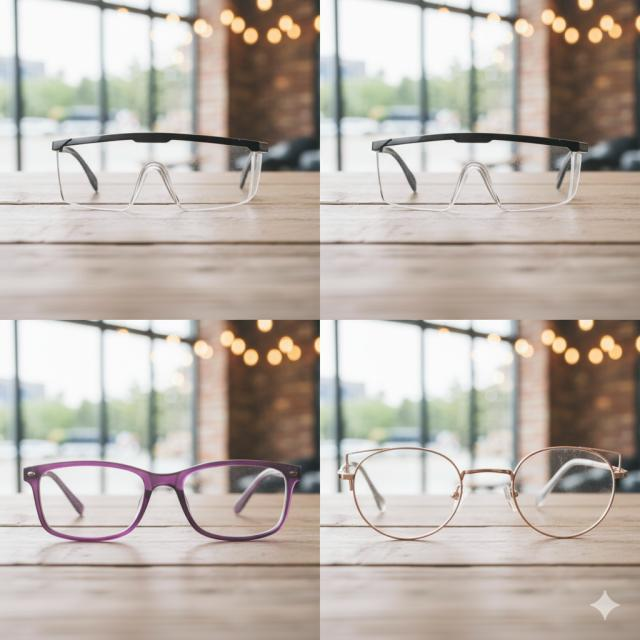oculos-epi: (52, 132, 267, 211), (372, 133, 588, 211)
sem_oculos: (338, 447, 626, 539), (24, 460, 301, 541)
